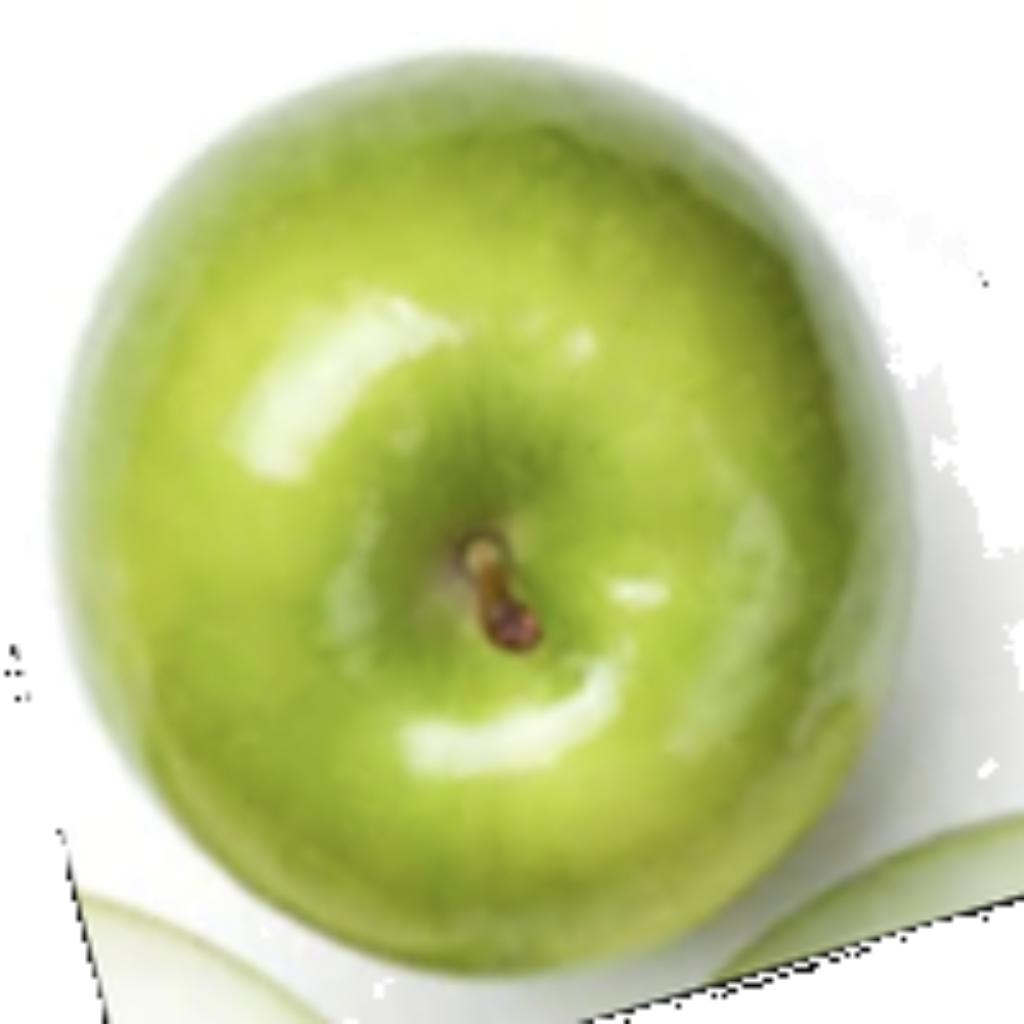apple: (41, 36, 1019, 1019)
